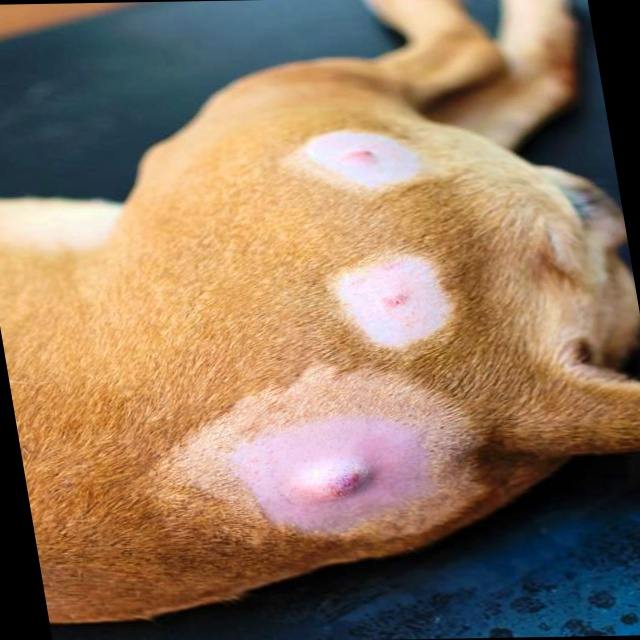lump_and_bump: (286, 462, 376, 503), (341, 142, 378, 171), (383, 286, 412, 312)
